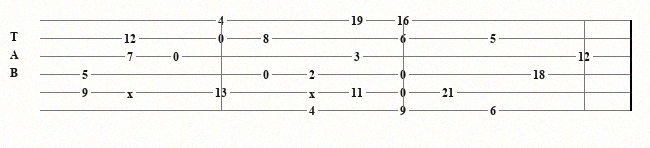0: (173, 50, 183, 63), (218, 32, 228, 45), (263, 68, 273, 81), (400, 86, 410, 99), (400, 68, 410, 81)
11: (351, 86, 367, 99)
12: (124, 32, 140, 45), (578, 50, 594, 63)
13: (215, 86, 231, 99)
16: (397, 14, 413, 27)
18: (533, 68, 549, 81)
19: (351, 14, 367, 27)
2: (309, 68, 319, 81)
21: (442, 86, 458, 99)
3: (354, 50, 364, 63)
4: (218, 14, 228, 27), (309, 104, 319, 117)
5: (82, 68, 92, 81), (490, 32, 500, 45)
6: (400, 32, 410, 45), (490, 104, 500, 117)
7: (127, 50, 137, 63)
8: (263, 32, 273, 45)
9: (82, 86, 92, 99), (400, 104, 410, 117)
x: (127, 87, 137, 97), (309, 87, 319, 97)
